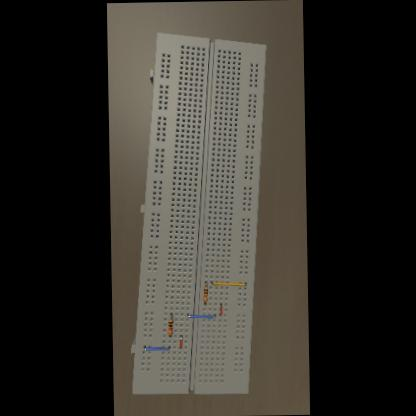breadboard: (126, 29, 272, 394)
resistor: (203, 285, 208, 301), (168, 318, 172, 334)
wire: (211, 280, 246, 286), (187, 312, 215, 316), (144, 345, 170, 349), (180, 334, 182, 347), (220, 303, 222, 315), (170, 312, 172, 318), (204, 301, 205, 303), (170, 334, 170, 336)
